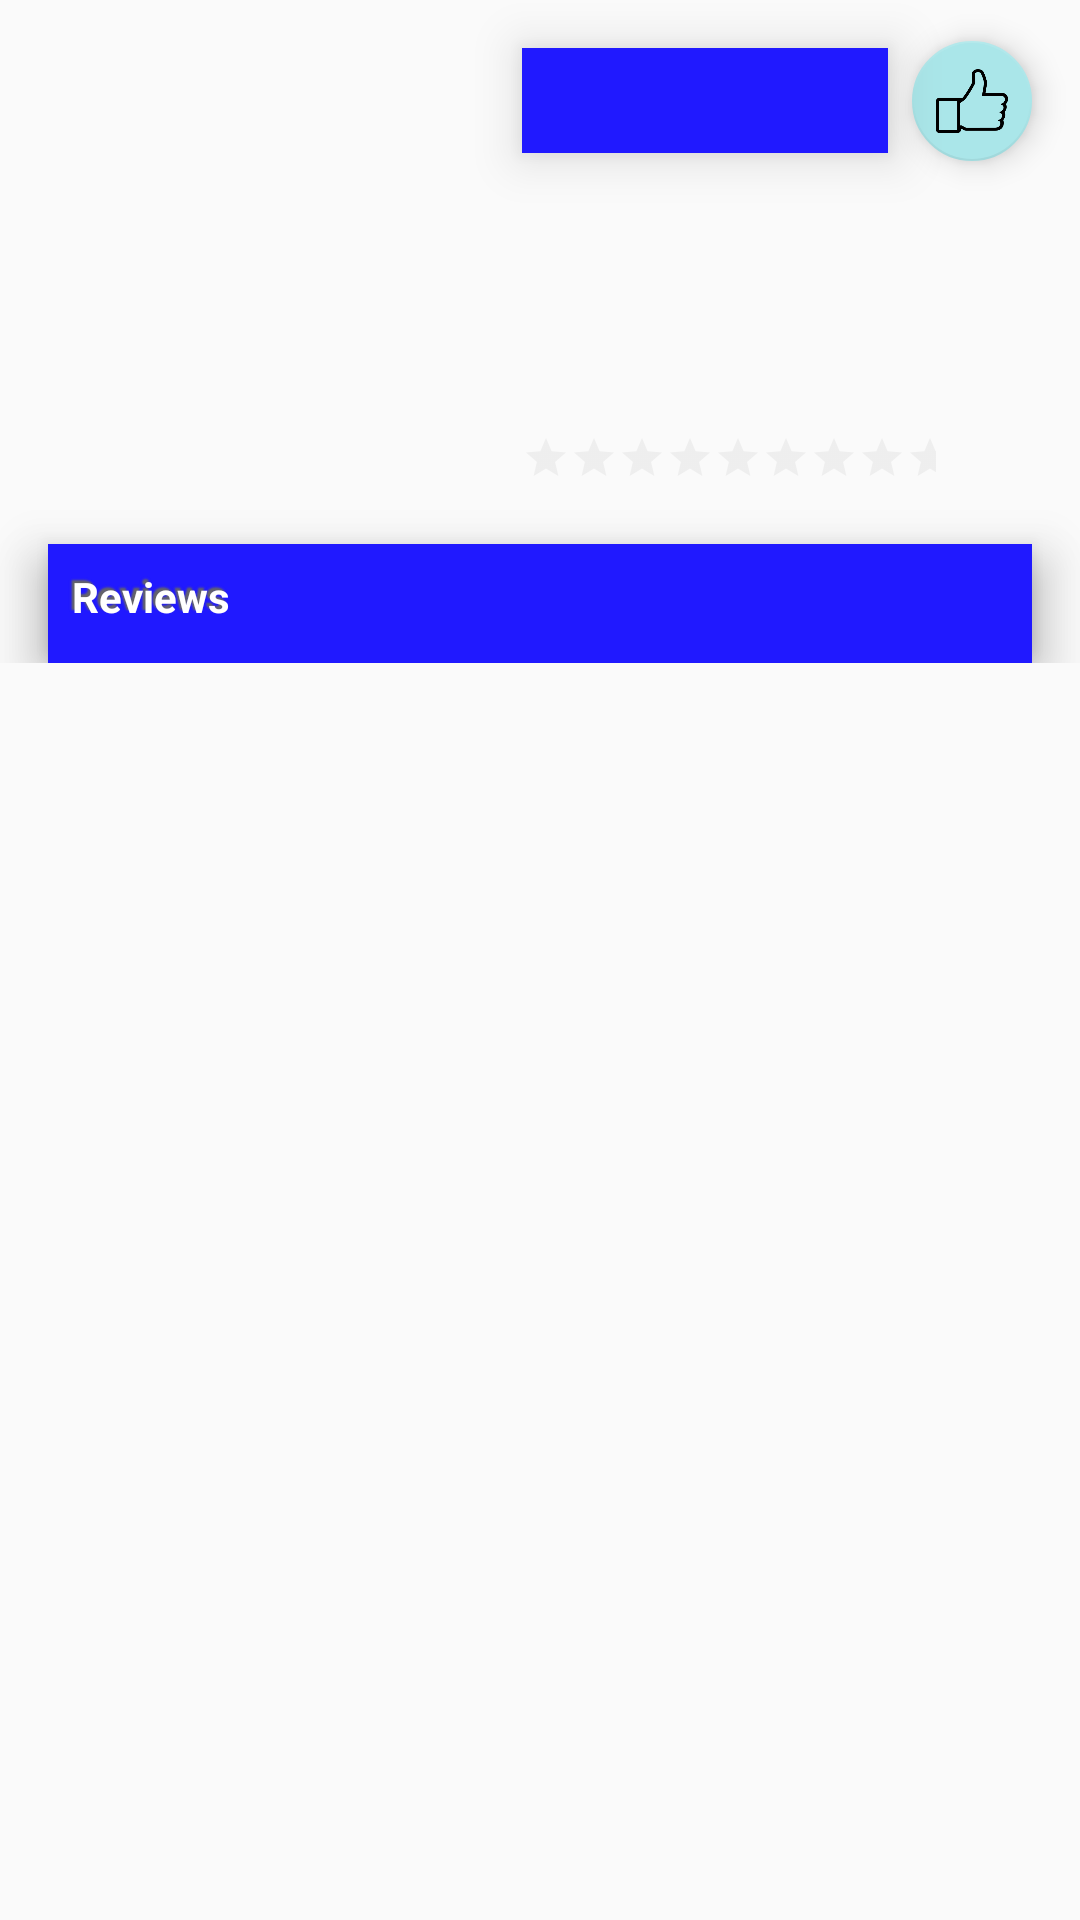

Icon click points for this 1080 × 1920 phone screenshot, format point (x, y):
like pre: point (972, 101)
